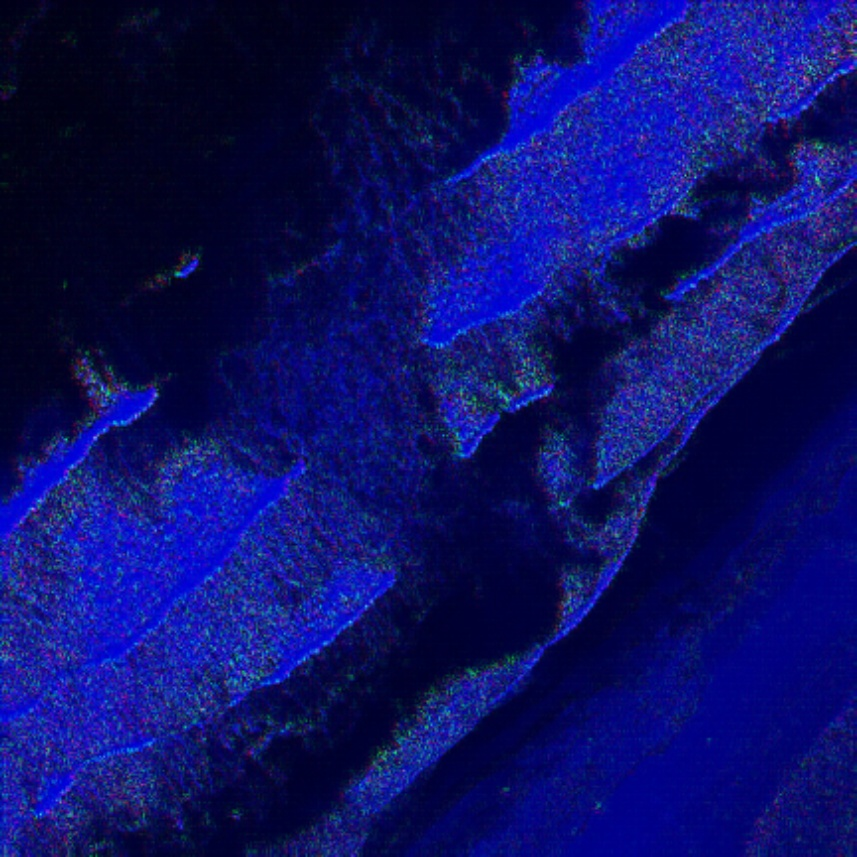rip_current: (130, 132, 577, 635)
